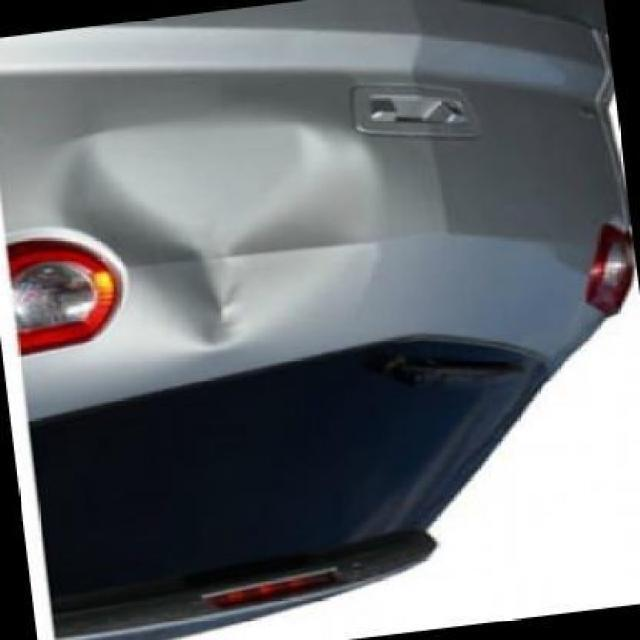dent: (55, 117, 380, 306)
